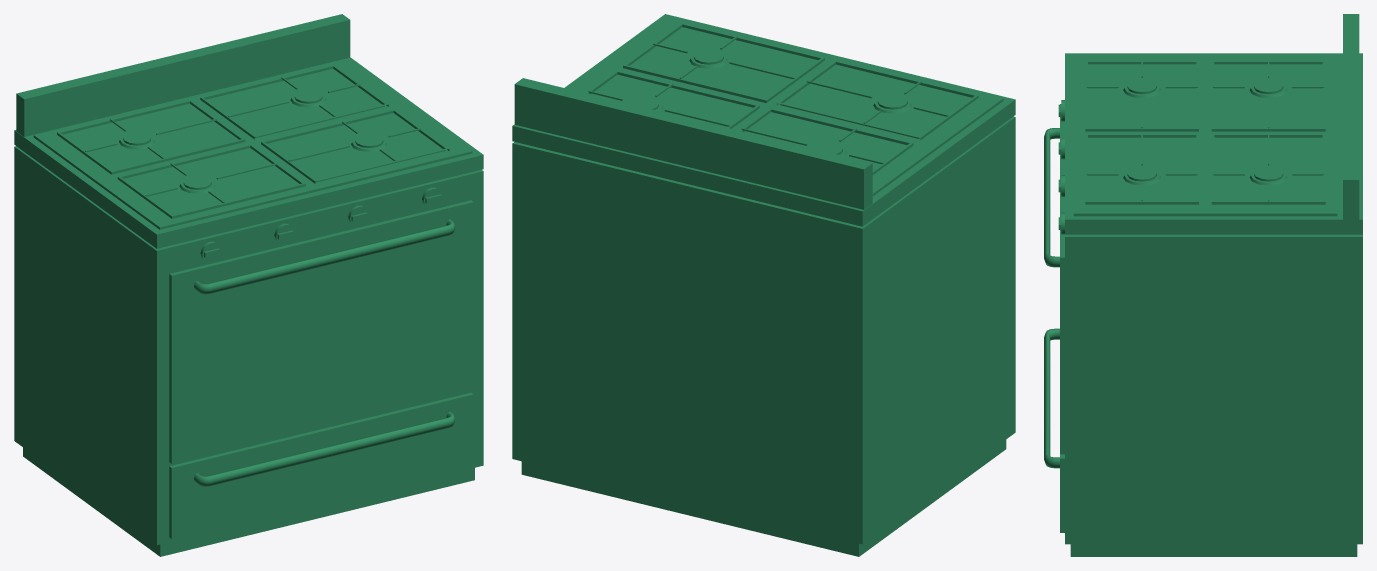
Rendered from mcp_oven.FBX.
3 renders of one model, left to right at view 1: azimuth 30°, elevation 25°; view 2: azimuth 150°, elevation 25°; view 3: azimuth 270°, elevation 25°, orthographic. The views are drawn at different scales.
Parts seen in each view (by area): view 1: mcp_oven; view 2: mcp_oven; view 3: mcp_oven.
Boxes of the visible parts, bbox=[...] form: mcp_oven: bbox=[14, 14, 483, 556]; mcp_oven: bbox=[512, 14, 1015, 556]; mcp_oven: bbox=[1044, 14, 1362, 556].
Size of the model in its own units: 112 by 119 by 90.78.
